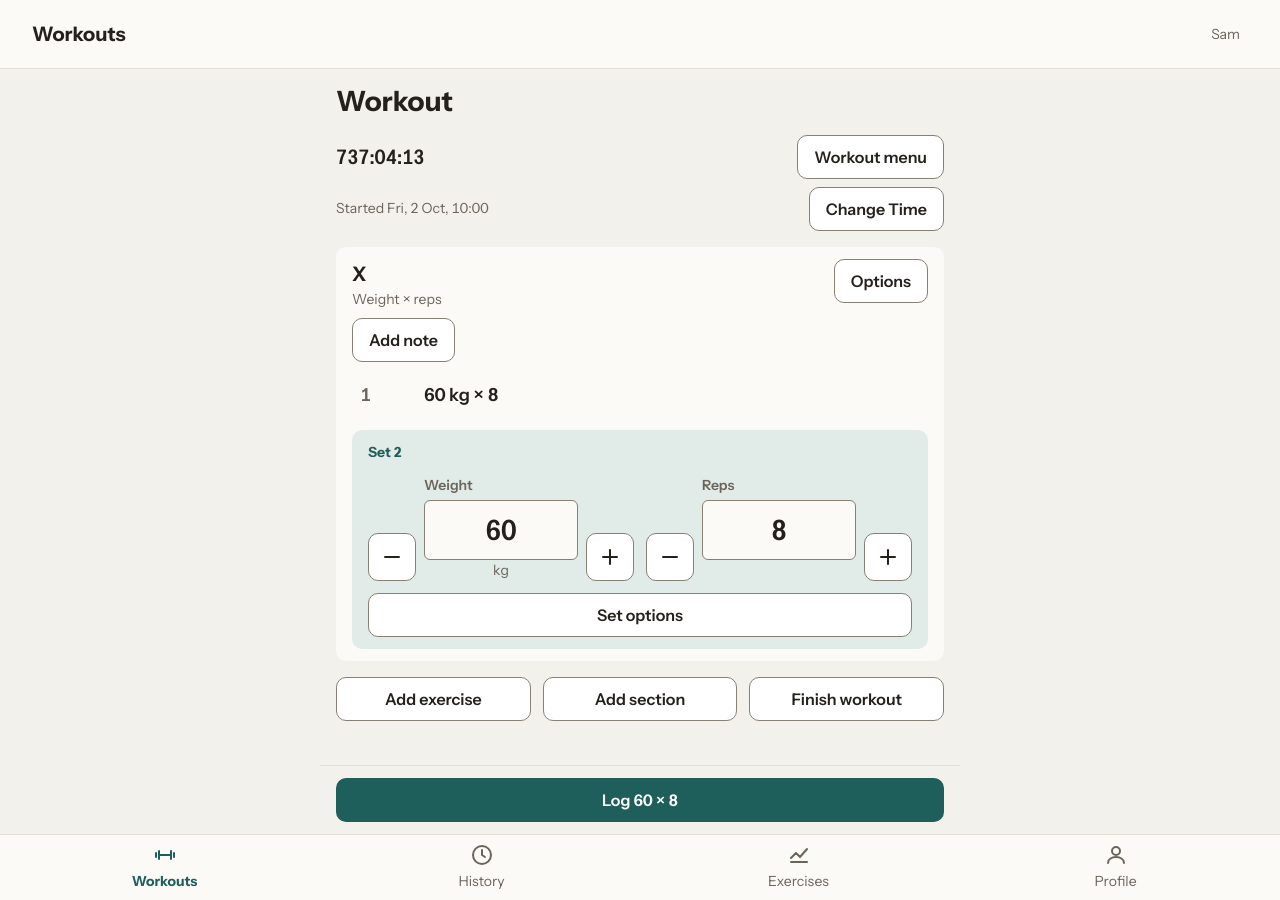
it: 06.2 AC14 — every set row shows its sync state › a 422 marks the row 'Couldn't save' with Edit and Discard; Discard removes it
Expected: the heading "Workout" is shown, [336,84,453,118]
Replace the text in the field labelled "Reps" with "5" at (779, 530), box [702,500,856,560]
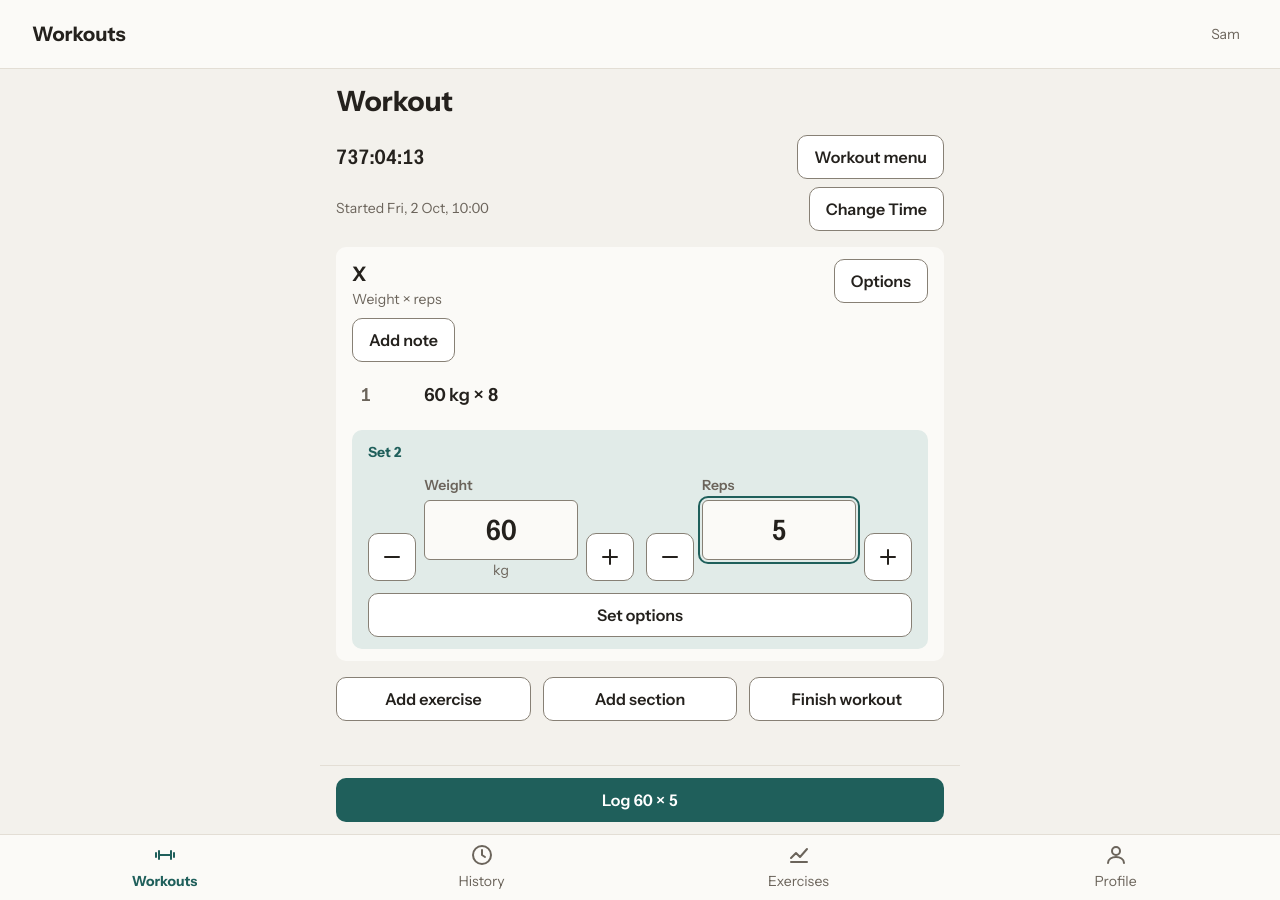
Click the button "Log 60 × 5".
click(640, 800)  # box [336,778,944,822]
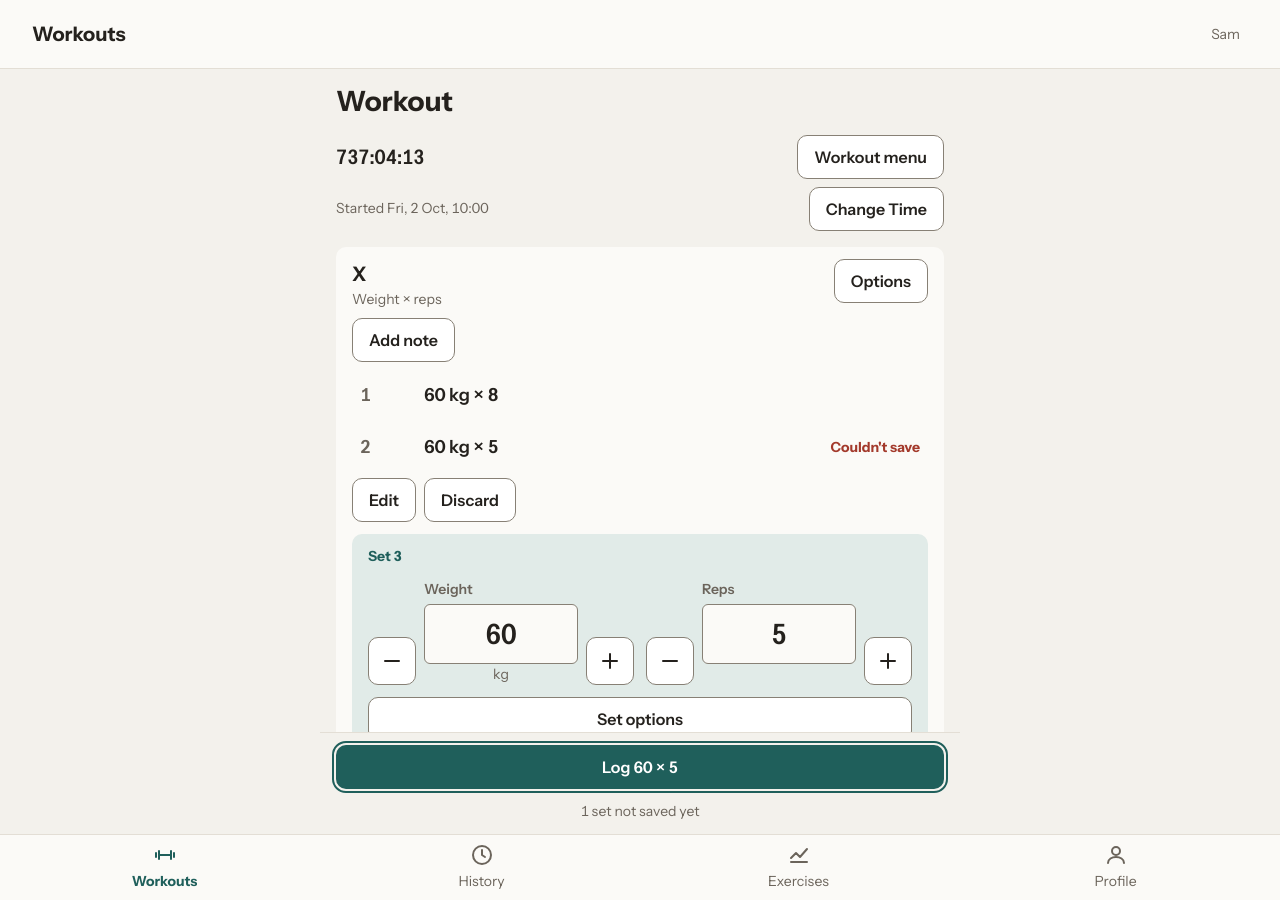
Expected: the button with aria-label "Edit set " is shown, [352,478,416,522]
Click the button with aria-label "Discard set ".
click(470, 500)  # box [424,478,516,522]
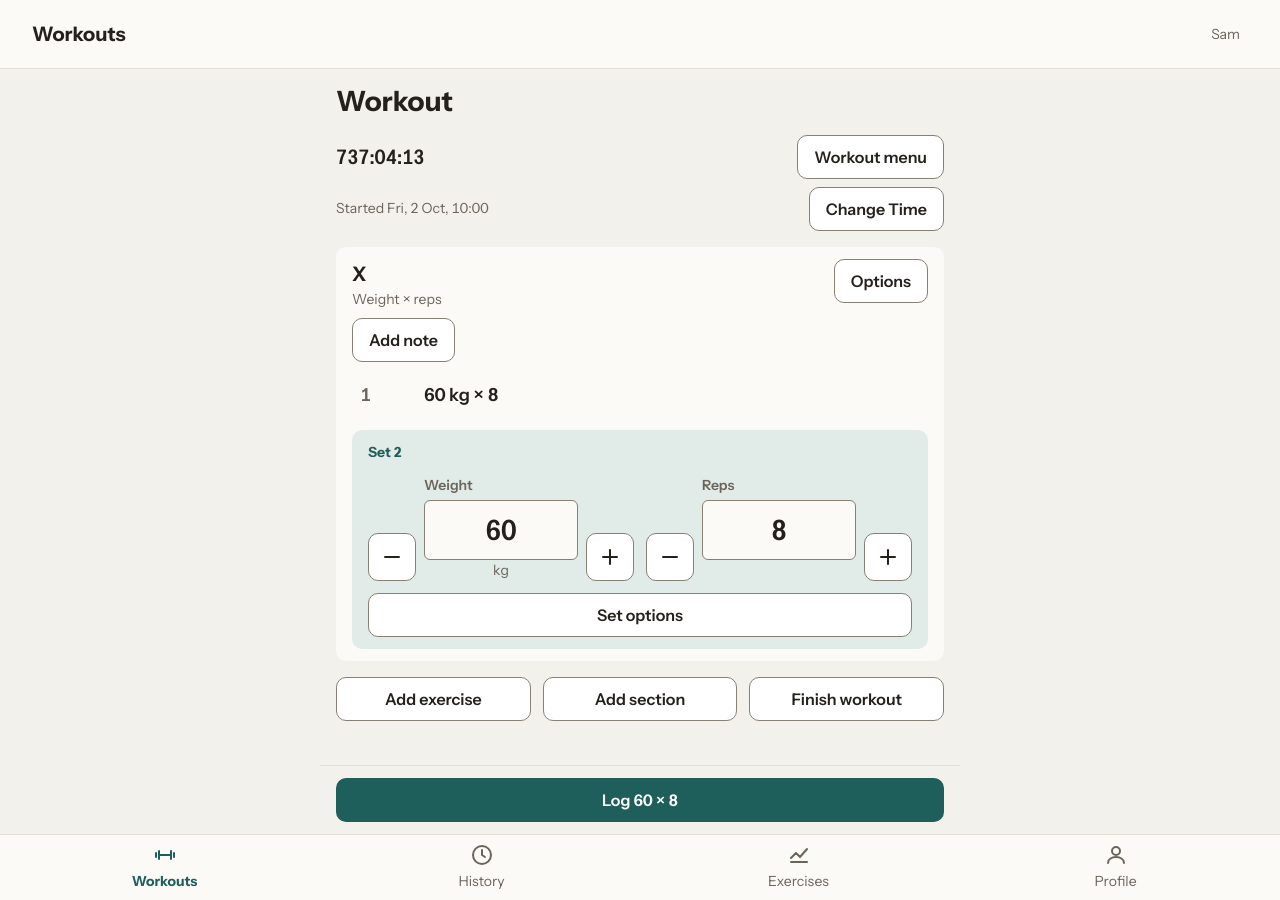
Expected: the button "× 5" is gone
